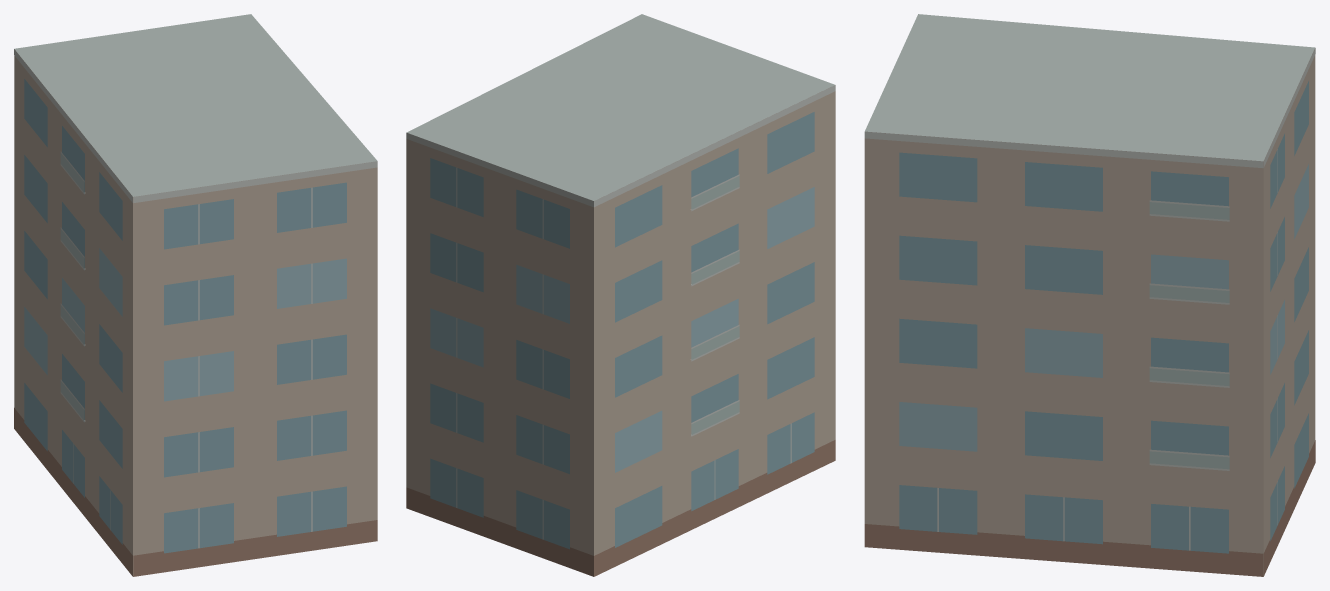
Rendered from survey-upis-32654901.glb.
3 renders of one model, left to right at view 1: azimuth 30°, elevation 25°; view 2: azimuth 150°, elevation 25°; view 3: azimuth 270°, elevation 25°, orthographic. The views are drawn at different scales.
Parts seen in each view (by area): view 1: survey-upis-32654901.tmp; view 2: survey-upis-32654901.tmp; view 3: survey-upis-32654901.tmp.
Part boxes in pixels (x1,y1,x2,y2): survey-upis-32654901.tmp: (14, 14, 377, 576); survey-upis-32654901.tmp: (406, 14, 835, 576); survey-upis-32654901.tmp: (864, 14, 1315, 576).
Bounding box in the file's own units: 11.19 × 14.7 × 14.46.
